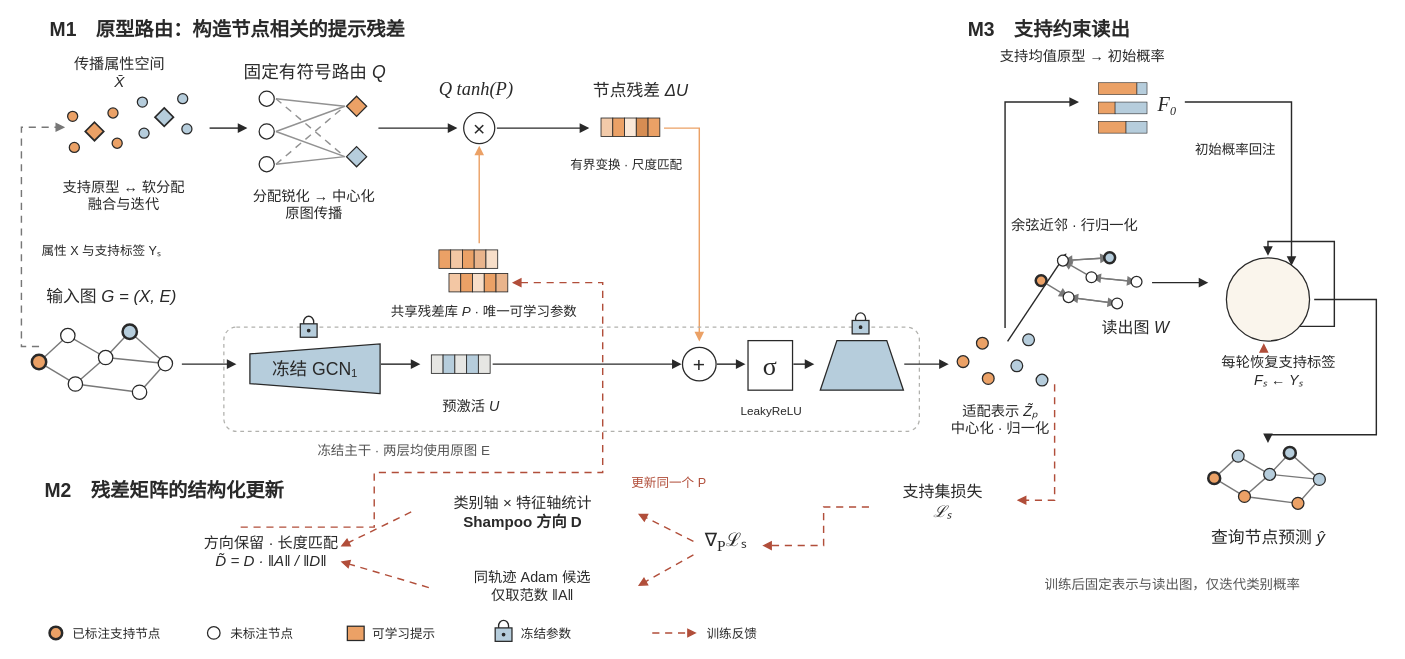
Some shapes in this 1405 by 659 pixel diagram are drawn without their labels. Here are the shapes that lost their labels. From the top down, the centre of each, then its label:
point (1267, 299): 融合 与迭代
point (861, 365): GCN₂
